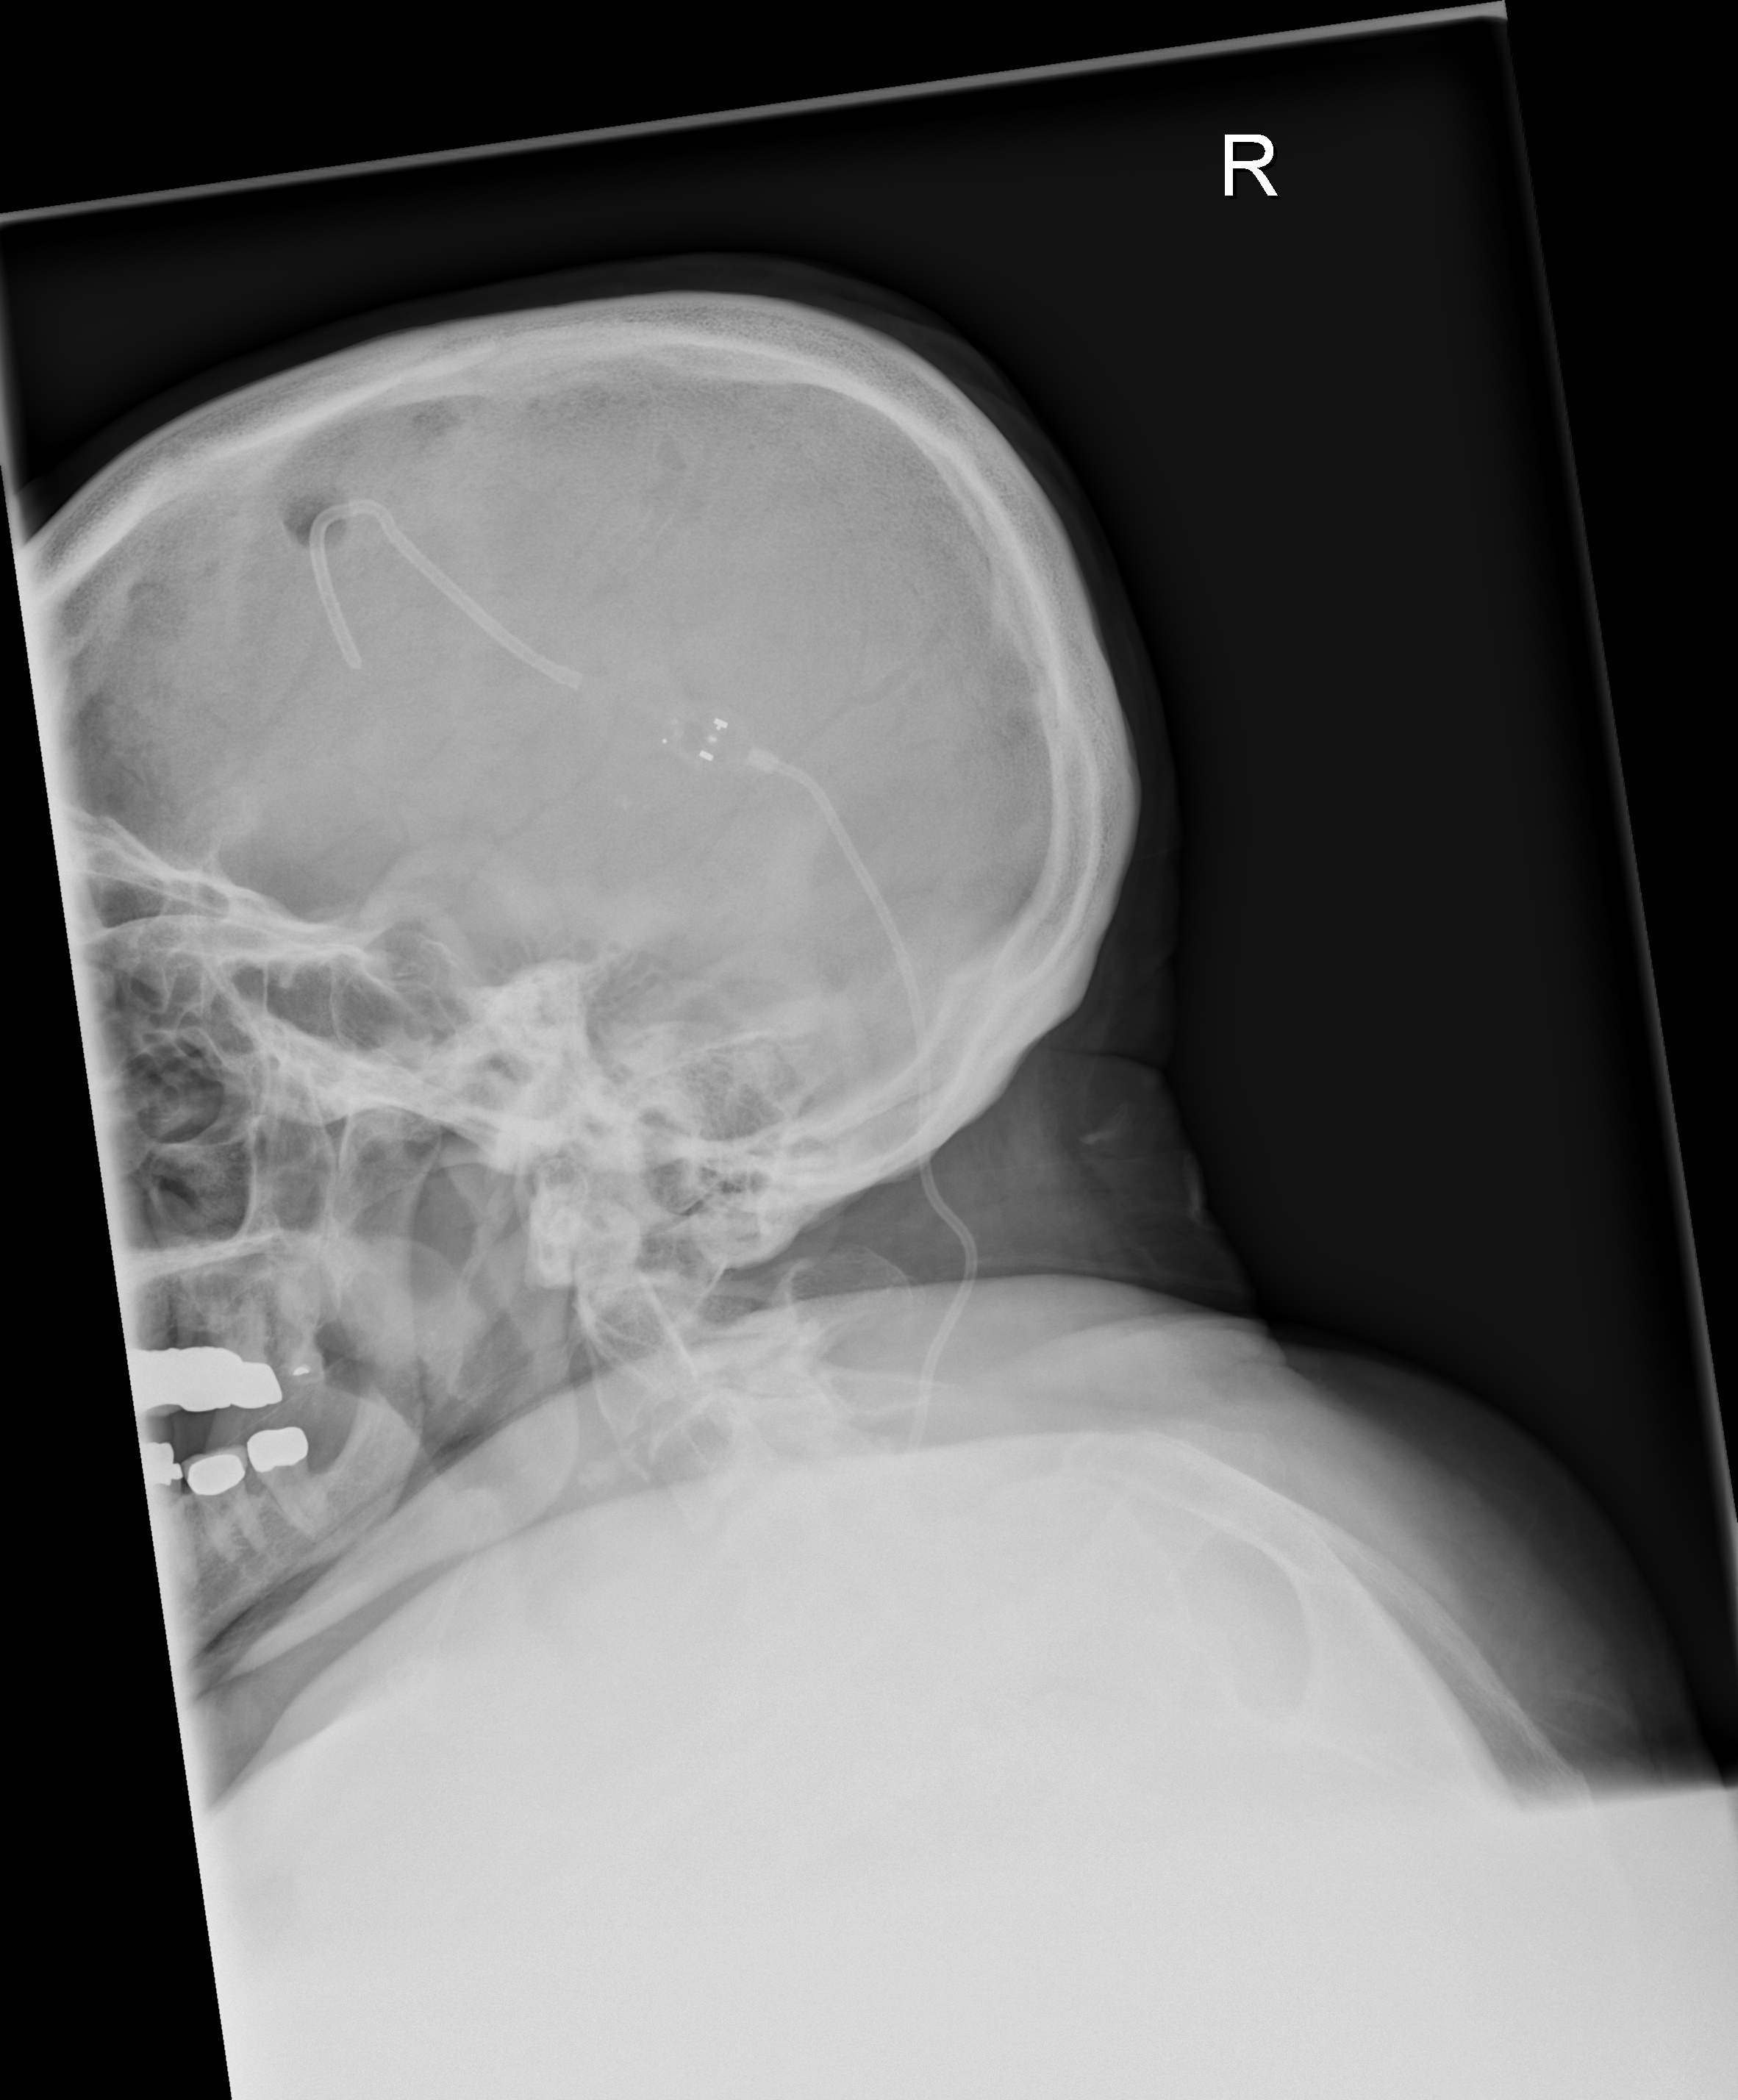Codman Certas: (655, 692, 753, 780)
